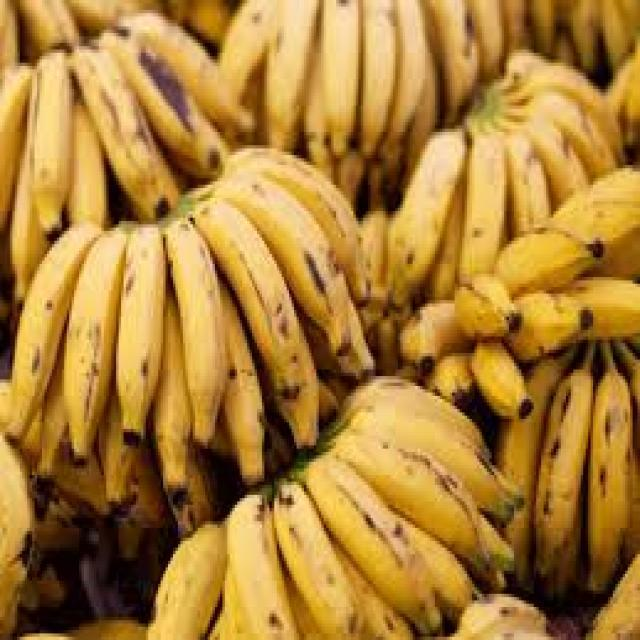Banana: (5, 142, 373, 532), (144, 372, 522, 636), (0, 13, 245, 282), (384, 50, 630, 300), (495, 334, 640, 598)
